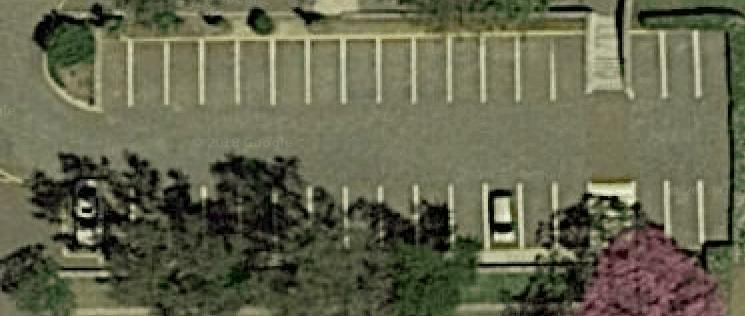parkingspot: (0, 0, 733, 187), (60, 177, 592, 258), (96, 31, 588, 113), (627, 29, 732, 103), (633, 178, 734, 253)
